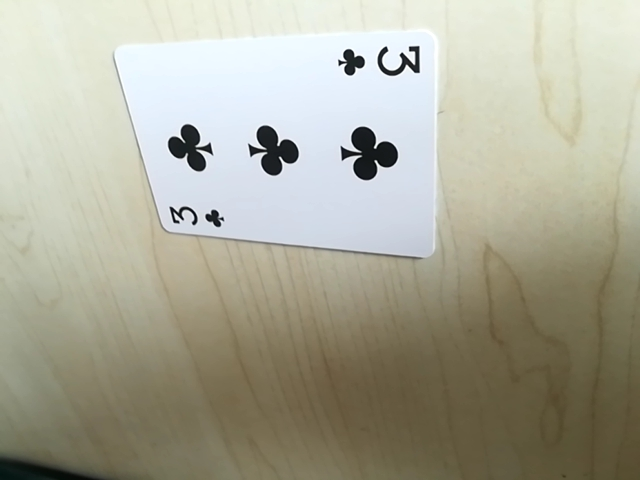mh 3: (338, 38, 423, 82), (158, 201, 226, 235)
